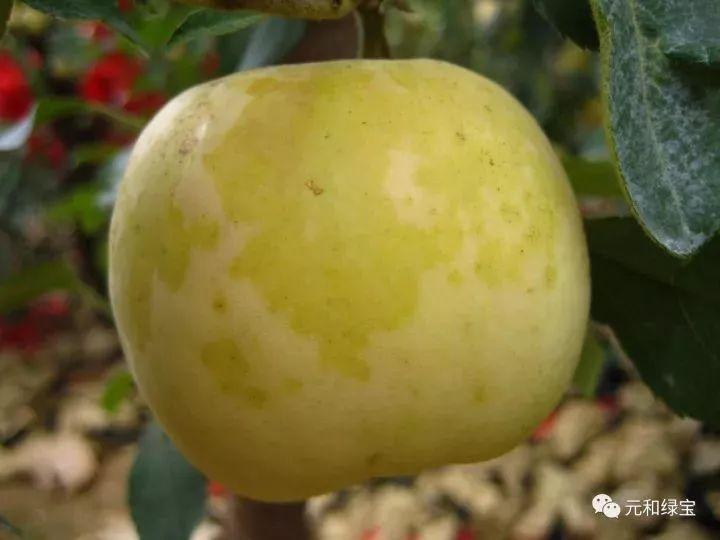apple: (112, 57, 591, 506)
